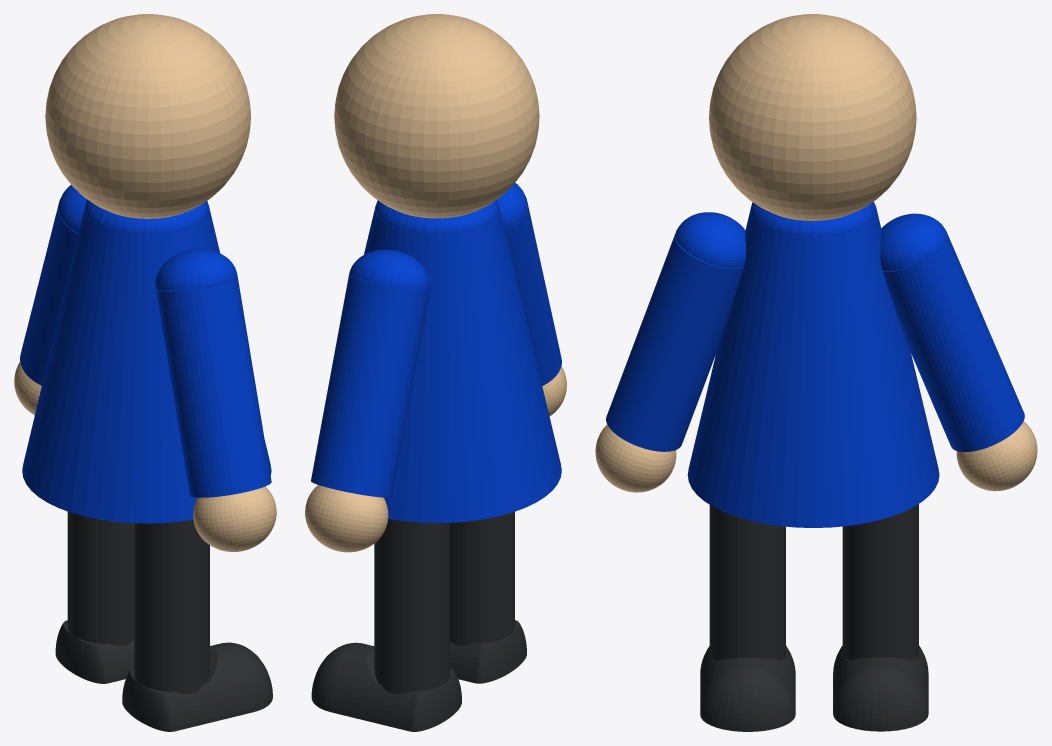
The model's file is playerBase.glb.
3 renders of one model, left to right at view 1: azimuth 30°, elevation 25°; view 2: azimuth 150°, elevation 25°; view 3: azimuth 270°, elevation 25°, orthographic.
Visible parts, largest first — view 1: HDPlayer_torso, HDPlayer_head, HDPlayer_armRight, HDPlayer_legRight, HDPlayer_legLeft, HDPlayer_shoeRight, HDPlayer_armLeft, HDPlayer_shoeLeft, HDPlayer_sleeveRight, HDPlayer_collar, HDPlayer_sleeveLeft; view 2: HDPlayer_torso, HDPlayer_head, HDPlayer_armLeft, HDPlayer_legLeft, HDPlayer_legRight, HDPlayer_shoeLeft, HDPlayer_armRight, HDPlayer_shoeRight, HDPlayer_sleeveLeft, HDPlayer_collar, HDPlayer_sleeveRight; view 3: HDPlayer_torso, HDPlayer_head, HDPlayer_armRight, HDPlayer_armLeft, HDPlayer_legRight, HDPlayer_legLeft, HDPlayer_shoeLeft, HDPlayer_shoeRight, HDPlayer_sleeveRight, HDPlayer_sleeveLeft, HDPlayer_collar.
Boxes of the visible parts, left/top/right/bottom form: HDPlayer_torso: left=22, top=203, right=271, bottom=523; HDPlayer_head: left=45, top=14, right=250, bottom=218; HDPlayer_armRight: left=156, top=275, right=276, bottom=551; HDPlayer_legRight: left=134, top=520, right=209, bottom=694; HDPlayer_legLeft: left=67, top=511, right=134, bottom=646; HDPlayer_shoeRight: left=122, top=642, right=272, bottom=731; HDPlayer_armLeft: left=14, top=203, right=77, bottom=414; HDPlayer_shoeLeft: left=55, top=620, right=134, bottom=683; HDPlayer_sleeveRight: left=155, top=249, right=237, bottom=290; HDPlayer_collar: left=85, top=199, right=208, bottom=234; HDPlayer_sleeveLeft: left=58, top=185, right=87, bottom=233; HDPlayer_torso: left=364, top=204, right=561, bottom=523; HDPlayer_head: left=334, top=14, right=539, bottom=218; HDPlayer_armLeft: left=305, top=275, right=429, bottom=552; HDPlayer_legLeft: left=374, top=519, right=449, bottom=694; HDPlayer_legRight: left=450, top=512, right=514, bottom=645; HDPlayer_shoeLeft: left=311, top=642, right=461, bottom=731; HDPlayer_armRight: left=505, top=202, right=566, bottom=416; HDPlayer_shoeRight: left=450, top=620, right=526, bottom=683; HDPlayer_sleeveLeft: left=349, top=249, right=430, bottom=290; HDPlayer_collar: left=375, top=200, right=499, bottom=234; HDPlayer_sleeveRight: left=497, top=182, right=527, bottom=230; HDPlayer_torso: left=687, top=205, right=939, bottom=527; HDPlayer_head: left=709, top=14, right=916, bottom=220; HDPlayer_armRight: left=595, top=234, right=743, bottom=492; HDPlayer_armLeft: left=883, top=234, right=1037, bottom=491; HDPlayer_legRight: left=709, top=505, right=785, bottom=660; HDPlayer_legLeft: left=842, top=504, right=918, bottom=660; HDPlayer_shoeLeft: left=833, top=645, right=928, bottom=731; HDPlayer_shoeRight: left=700, top=646, right=795, bottom=731; HDPlayer_sleeveRight: left=675, top=212, right=745, bottom=268; HDPlayer_sleeveLeft: left=880, top=213, right=947, bottom=270; HDPlayer_collar: left=750, top=201, right=875, bottom=236.
Bounding box in the file's own units: 25.7 × 75.02 × 45.11.
